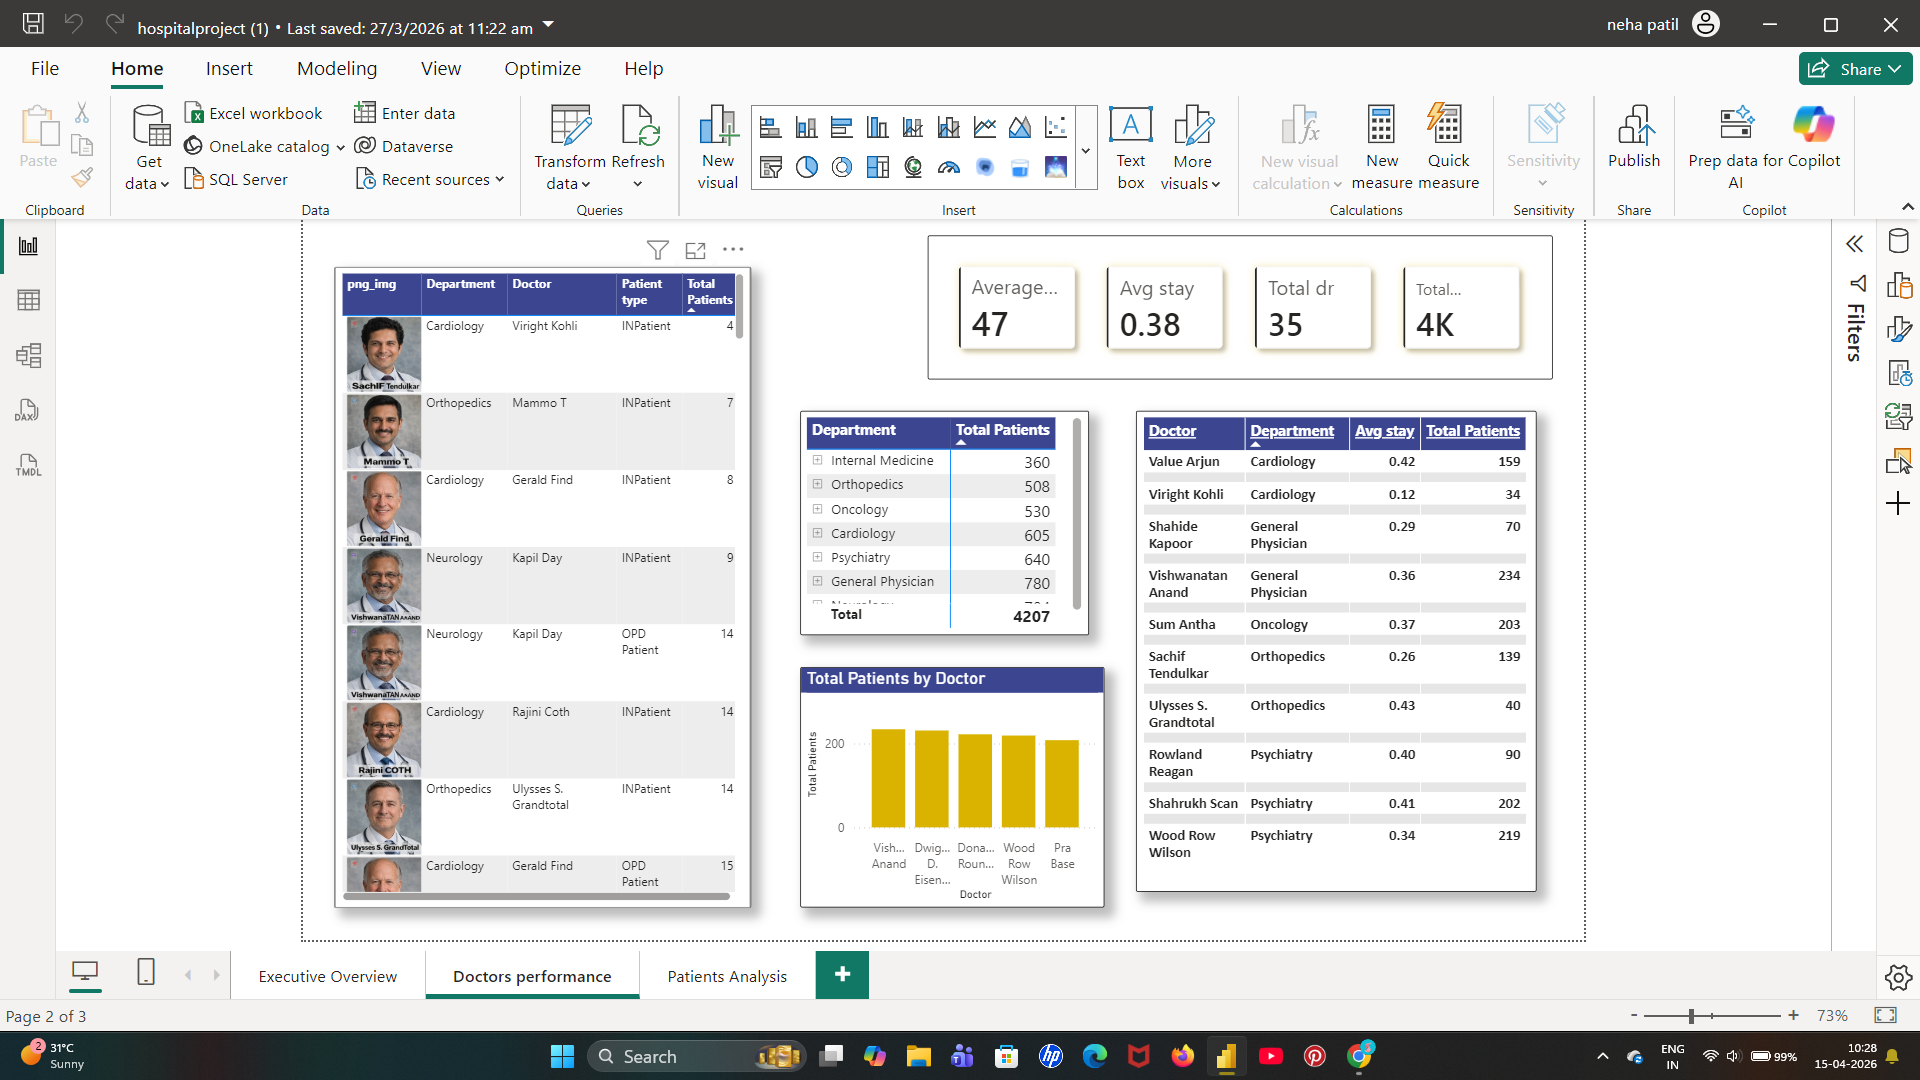

What the dashboard file says about the page in this screenshot:
{"tool":"powerbi","page":{"name":"Doctors performance","canvas":[1280,720],"ordinal":1},"visuals":[{"type":"cardVisual","fields":{"Data":["key measures.Average Age","key measures.Avg stay","key measures.total doctor","key measures.Total Patients"]},"box":[624,16,624,144],"z":0},{"type":"tableEx","fields":{"Values":["doctors.doctor","doctors.department","key measures.Avg stay","key measures.Total Patients"]},"box":[832,192,400,480],"z":1000},{"type":"pivotTable","fields":{"Values":["key measures.Total Patients"],"Rows":["doctors.Department","doctors.Doctor"]},"box":[496,192,288,224],"z":2000},{"type":"tableEx","fields":{"Values":["doctors.png_img","doctors.Department","doctors.Doctor","patients.Patient type","key measures.Total Patients"]},"box":[32,48,416,640],"z":3000},{"type":"columnChart","fields":{"Category":["doctors.Doctor"],"Y":["key measures.Total Patients"]},"box":[496,448,304,240],"z":4000}]}

Visuals, with their boxes on the page's 1280x720 design canvas (x1, y1, x2, y2). These are canvas units, not pixel positions in the 1920x1080 screenshot, which may show the page scaled, cropped or inside an application window:
cardVisual - key measures.Average Age x key measures.Avg stay: [left=624, top=16, right=1248, bottom=160]
tableEx - doctors.doctor x doctors.department: [left=832, top=192, right=1232, bottom=672]
pivotTable - key measures.Total Patients x doctors.Department: [left=496, top=192, right=784, bottom=416]
tableEx - doctors.png_img x doctors.Department: [left=32, top=48, right=448, bottom=688]
columnChart - doctors.Doctor x key measures.Total Patients: [left=496, top=448, right=800, bottom=688]
